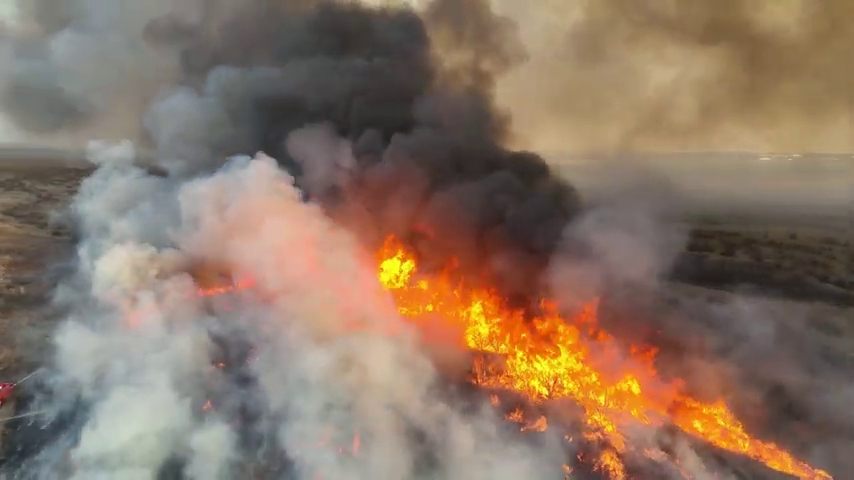forest_fire: (375, 236, 831, 479), (506, 408, 549, 431), (197, 279, 252, 296), (490, 395, 499, 405), (565, 465, 570, 470), (583, 455, 586, 459), (651, 458, 660, 459)
